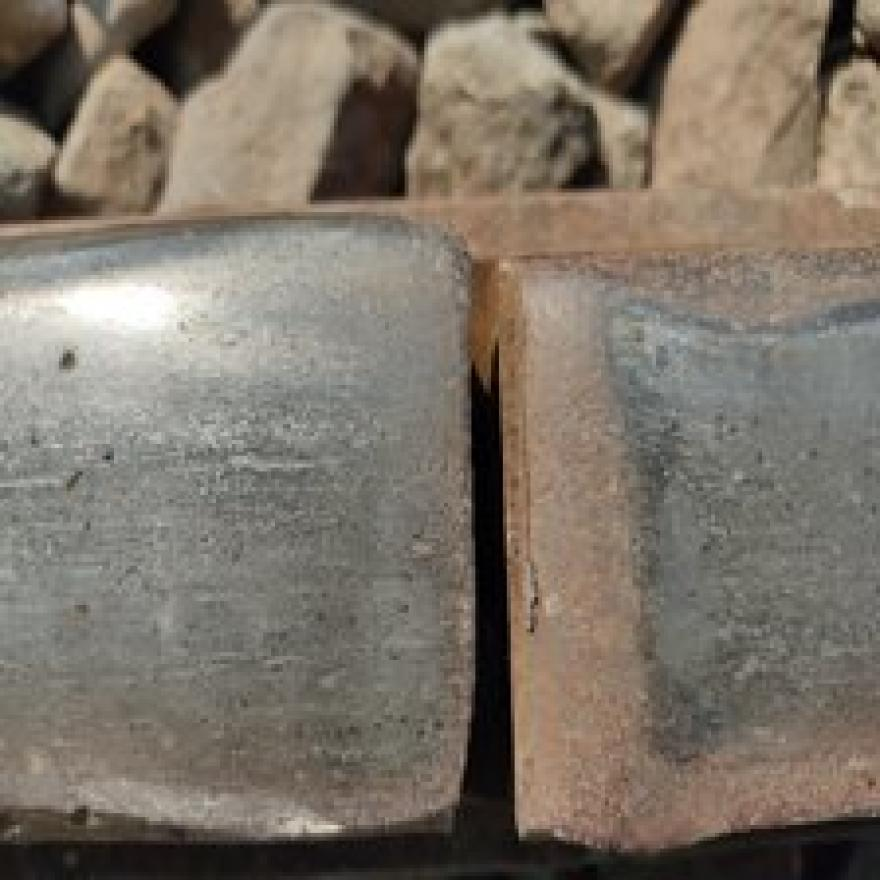railway-gap: (162, 198, 818, 868)
